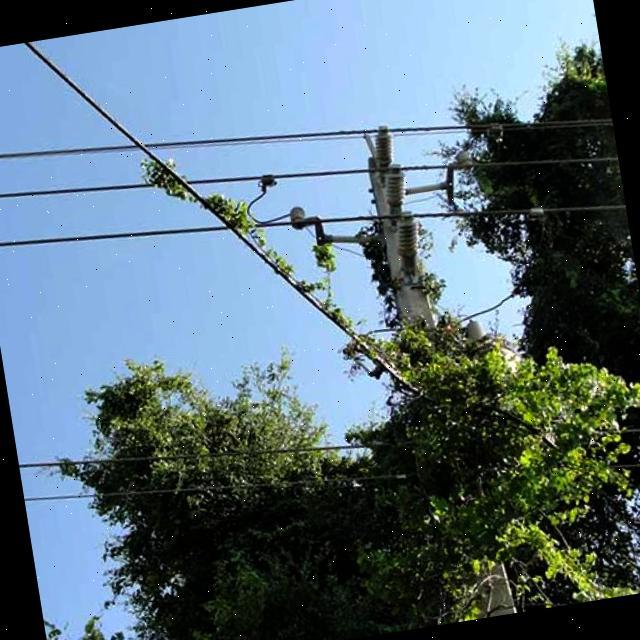critical vegetation: (93, 20, 640, 611)
